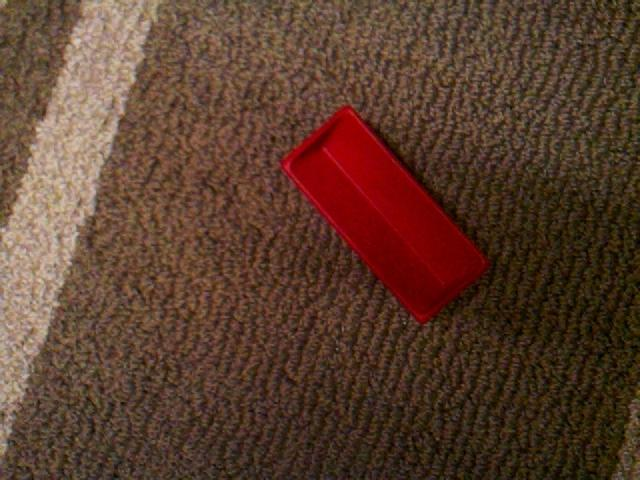red: (280, 104, 491, 326)
